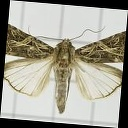Spodoptera litura: (4, 22, 122, 115)
